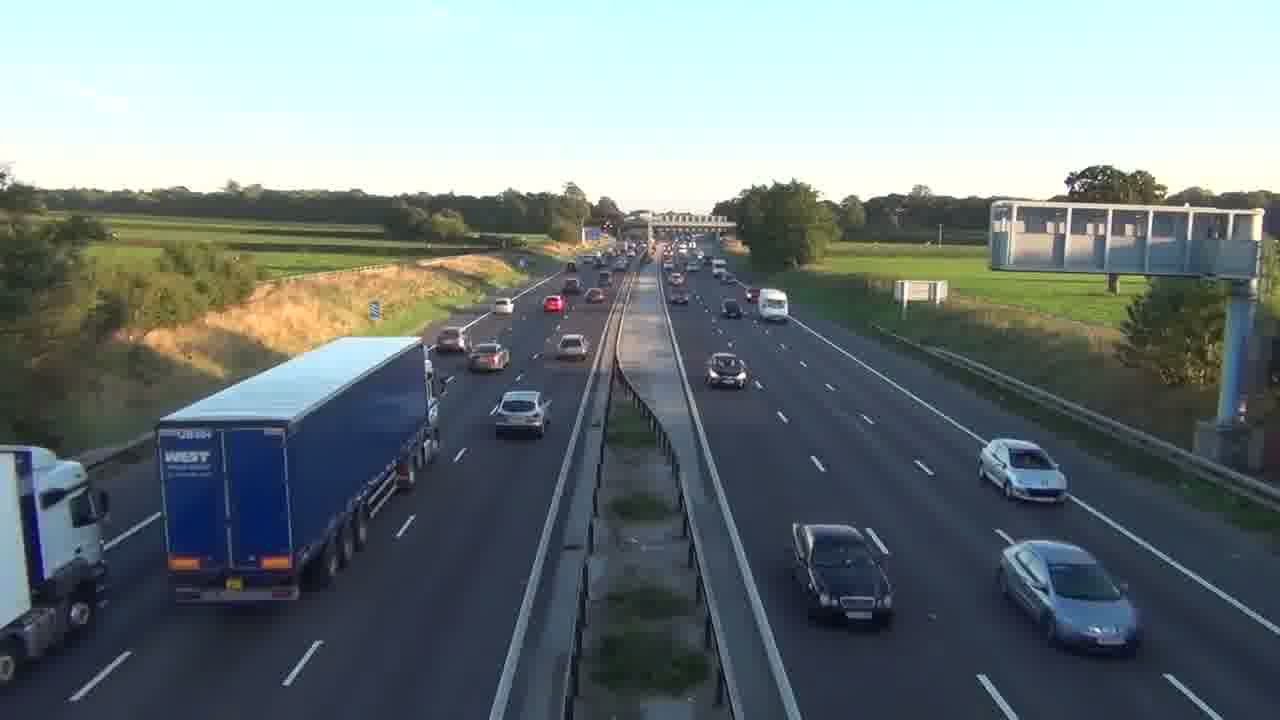car: (997, 536, 1141, 657), (790, 522, 895, 627), (977, 436, 1070, 504), (490, 388, 552, 439), (705, 352, 749, 390), (557, 332, 591, 361)
truck: (156, 334, 438, 606), (0, 444, 111, 683), (759, 287, 789, 321)
